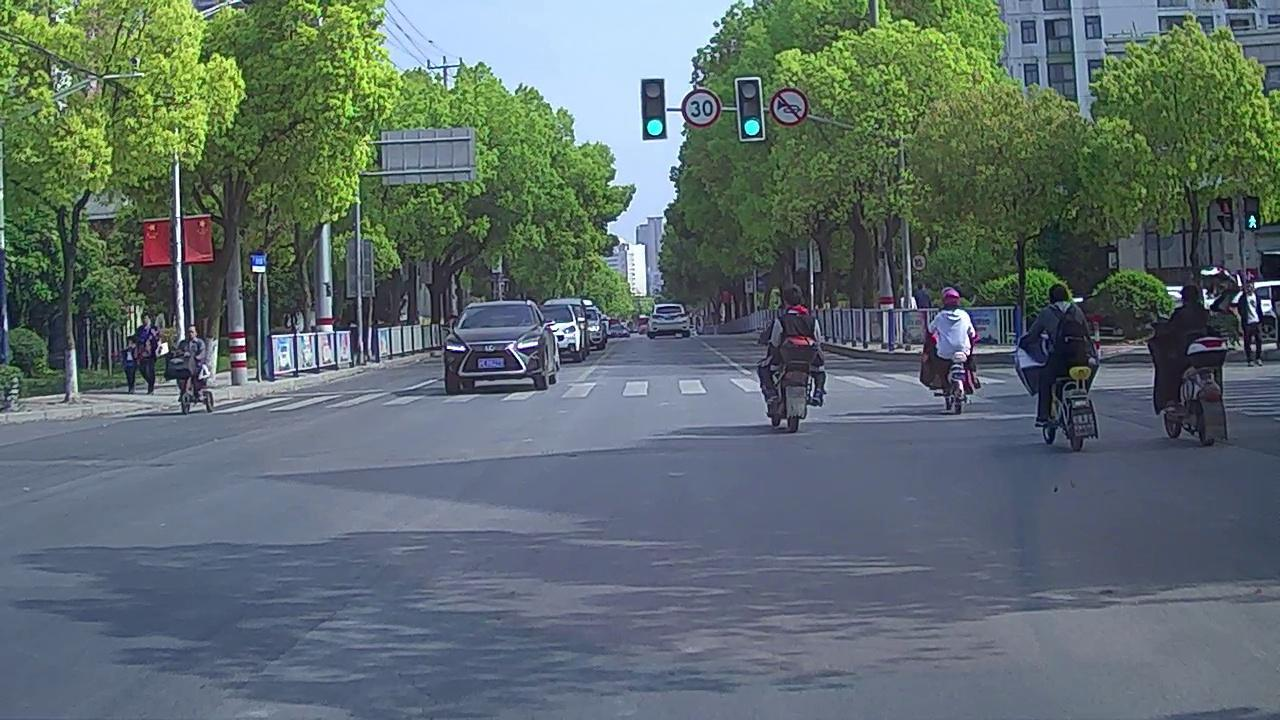traffic_light: (737, 78, 764, 138), (642, 78, 666, 139)
